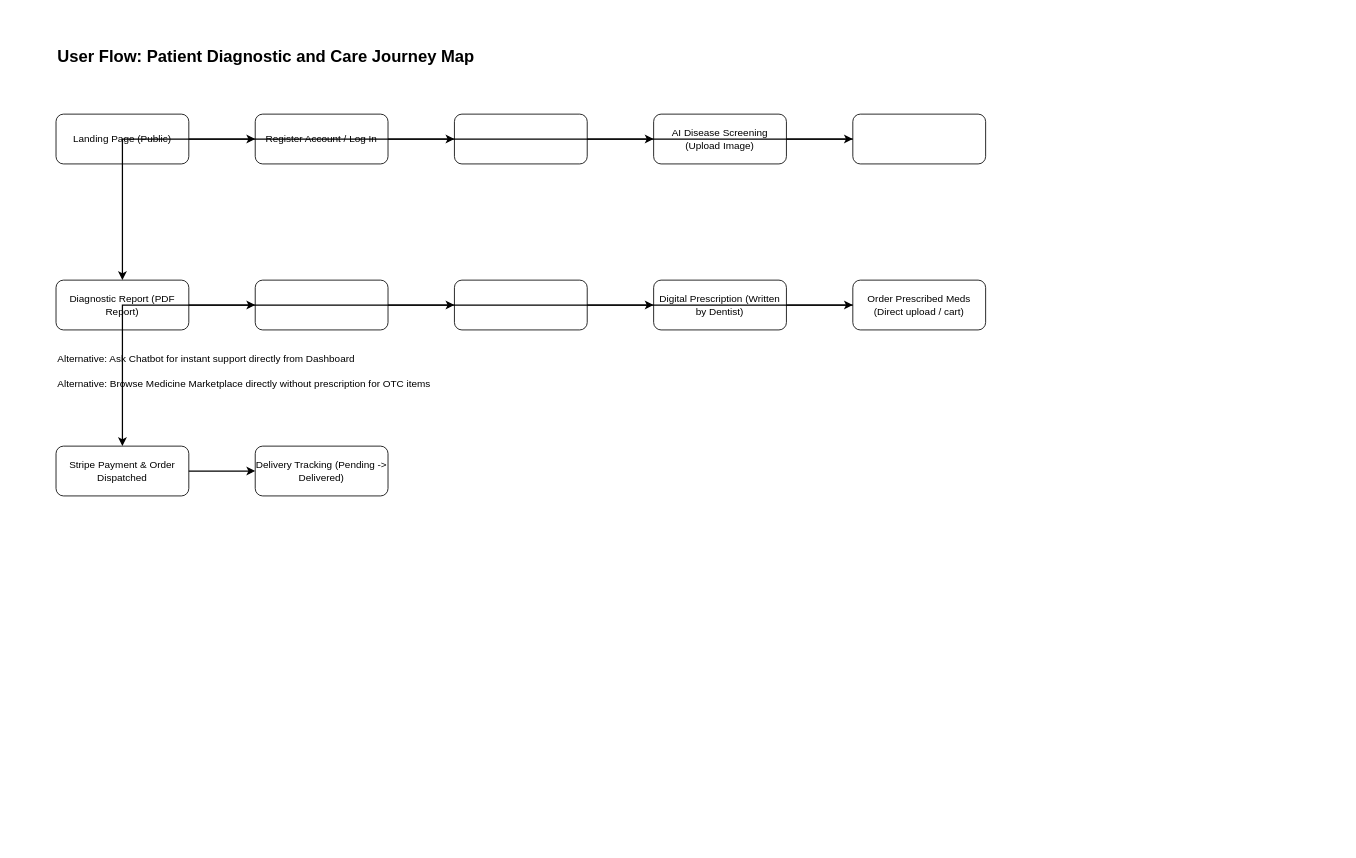
This 1356x858 diagram has some shape labels left out. Here are the shapes that lost their labels. From the top down, the centre of each, then its label:
[520,138]: Patient Dashboard (Quick Actions)
[919,138]: AI Model Execution (Flask prediction)
[321,304]: Search Dentists & Book Slot
[520,304]: Jitsi Video Session (Consultation Room)
